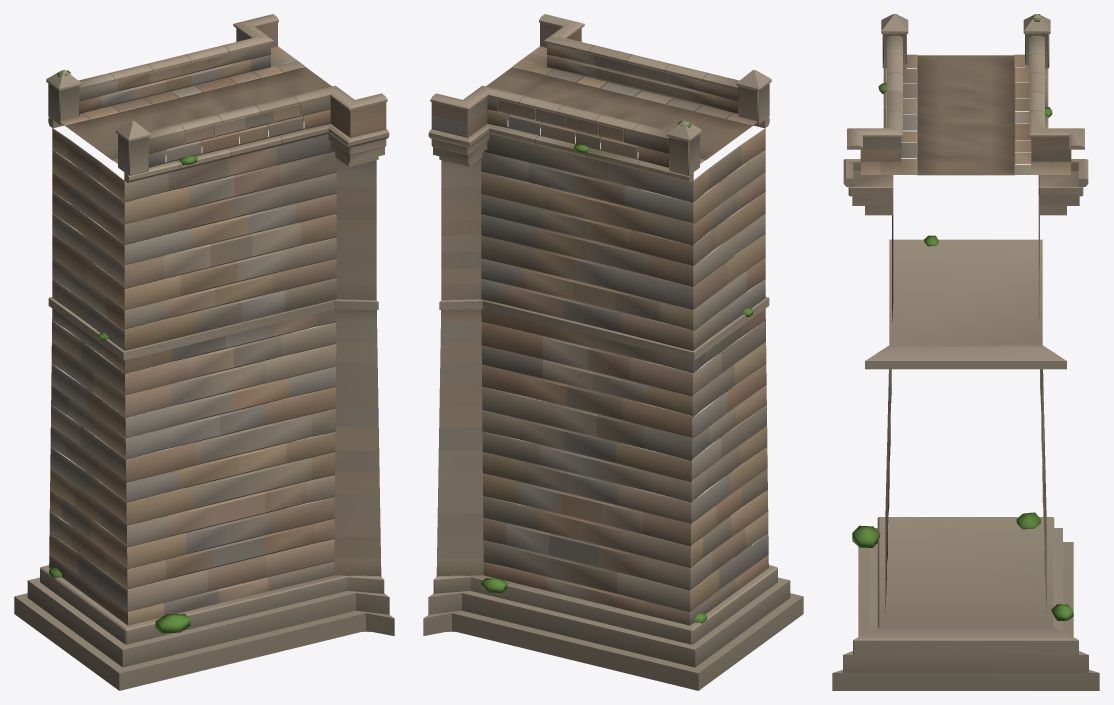
File: viaduct-abutment.glb
3 views of the same model, side by side, from view 1: azimuth 30°, elevation 25°; view 2: azimuth 150°, elevation 25°; view 3: azimuth 270°, elevation 25° (orthographic). The views are drawn at different scales.
Parts seen in each view (by area): view 1: viaduct-abutment Viaduct stone, viaduct-abutment Ballast, viaduct-abutment Moss; view 2: viaduct-abutment Viaduct stone, viaduct-abutment Ballast, viaduct-abutment Moss; view 3: viaduct-abutment Viaduct stone, viaduct-abutment Ballast, viaduct-abutment Moss.
Part boxes in pixels (x1=…): viaduct-abutment Viaduct stone: x1=14, y1=14, x2=394, y2=690; viaduct-abutment Ballast: x1=65, y1=67, x2=331, y2=160; viaduct-abutment Moss: x1=49, y1=70, x2=197, y2=633; viaduct-abutment Viaduct stone: x1=423, y1=14, x2=803, y2=690; viaduct-abutment Ballast: x1=486, y1=67, x2=752, y2=160; viaduct-abutment Moss: x1=481, y1=121, x2=753, y2=623; viaduct-abutment Viaduct stone: x1=832, y1=14, x2=1099, y2=690; viaduct-abutment Ballast: x1=917, y1=55, x2=1014, y2=175; viaduct-abutment Moss: x1=852, y1=14, x2=1073, y2=620.
Size of the model in its own units: 10.9 by 21.77 by 9.39.
